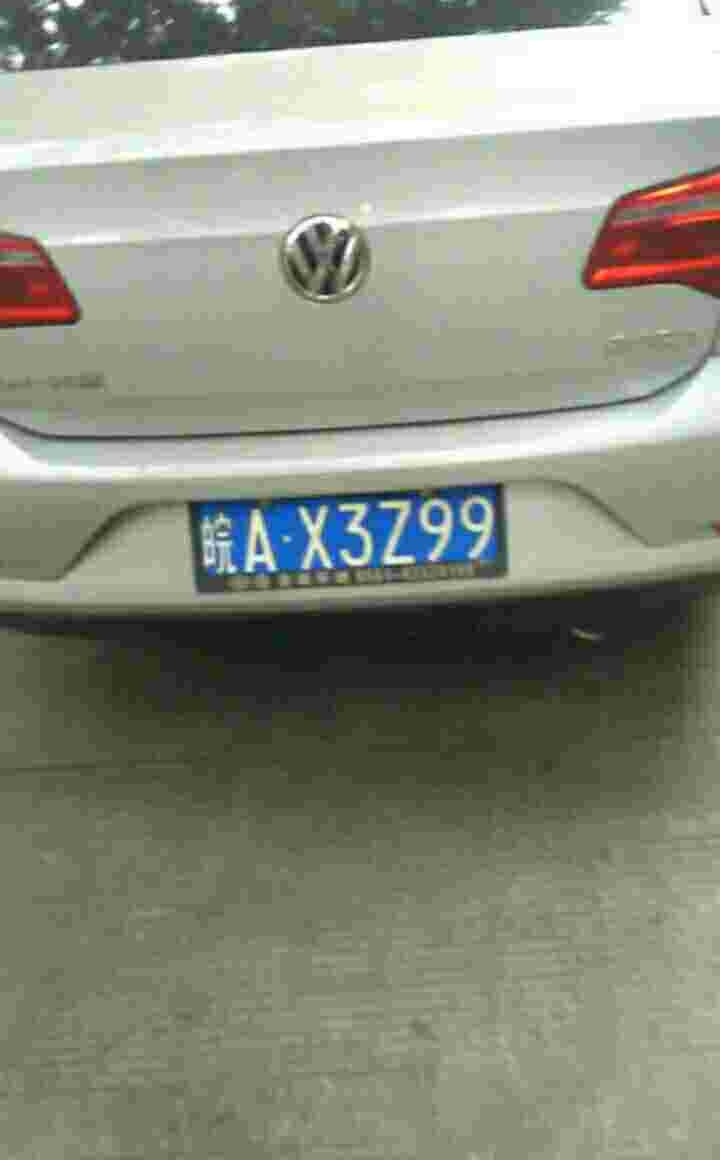plate: (191, 486, 514, 579)
